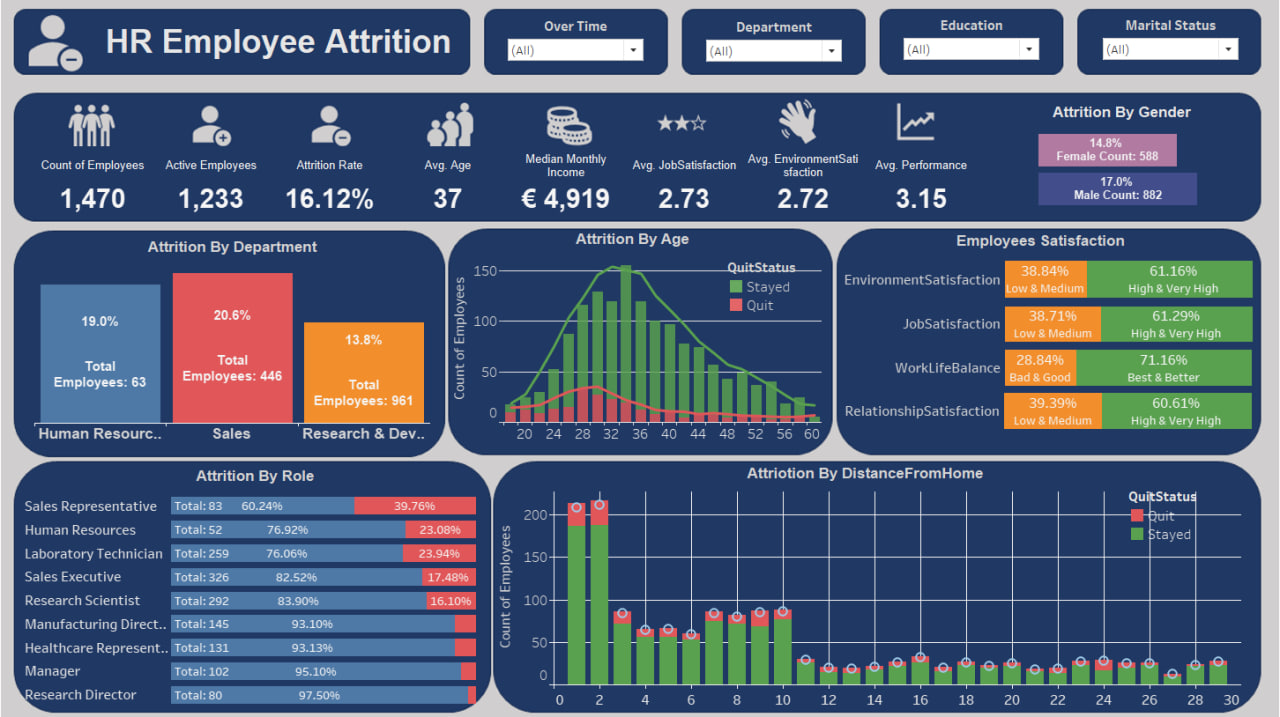

This screenshot's page, from the dashboard's own definition file:
{"tool":"tableau","page":{"name":"Dashboard","canvas":[1480,840],"ordinal":0},"visuals":[{"type":"image","param":"Image/dashboard-template.png","box":[8,8,1464,824]},{"type":"text","box":[130,24,400,71]},{"type":"filter","title":"Attrition By Role","param":"[federated.1coa1540oe1iew1gv6g4o164qylf].[none:Education:nk]","box":[1036,30,160,56]},{"type":"filter","title":"Attrition By Role","param":"[federated.1coa1540oe1iew1gv6g4o164qylf].[none:MaritalStatus:nk]","box":[1262,30,160,60]},{"type":"filter","title":"EmployeeSatisfaction","param":"[federated.1coa1540oe1iew1gv6g4o164qylf].[none:OverTime:nk]","box":[587,31,160,61]},{"type":"filter","title":"Attrition By Role","param":"[federated.1coa1540oe1iew1gv6g4o164qylf].[none:Department:nk]","box":[812,32,160,59]},{"type":"worksheet","title":"Attrition By Gender","mark":"Bar","rows":["Gender"],"cols":["Calculation_617837628887875588"],"box":[1192,126,189,123]},{"type":"worksheet","title":"KPIs","mark":"Automatic","box":[52,178,1074,81]},{"type":"worksheet","title":"Attrition By Age","mark":"Bar","rows":["cleaned.csv_70E9D969B87B495BA4FE548359104DE9"],"cols":["Age (bin)"],"box":[517,270,429,246]},{"type":"text","box":[1095,270,199,30]},{"type":"worksheet","title":"Attrition By Department","mark":"Bar","rows":["Calculation_617837628887875588"],"cols":["Department"],"box":[53,279,449,243]},{"type":"worksheet","title":"EmployeeSatisfaction","mark":"Automatic","cols":["Calculation_816558967056523266"],"box":[942,301,493,56]},{"type":"legend","title":"Attrition By Age","param":"[federated.1coa1540oe1iew1gv6g4o164qylf].[none:Calculation_264305060524859392:nk","box":[839,305,100,67]},{"type":"worksheet","title":"JobSatisfaction","mark":"Automatic","cols":["Calculation_816558967056883715"],"box":[978,353,471,53]},{"type":"worksheet","title":"WorkLifeBalance","mark":"Automatic","cols":["Calculation_816558967057481732"],"box":[982,402,466,54]},{"type":"worksheet","title":"RelationshipSatisfaction","mark":"Automatic","cols":["Calculation_816558967059492869"],"box":[949,451,499,54]},{"type":"worksheet","title":"Attriotion By DistanceFromHome","mark":"Bar","rows":["cleaned.csv_70E9D969B87B495BA4FE548359104DE9","cleaned.csv_70E9D969B87B495BA4FE548359104DE9"],"cols":["DistanceFromHome"],"box":[569,536,853,283]},{"type":"worksheet","title":"Attrition By Role","mark":"Bar","rows":["JobRole"],"cols":["cleaned.csv_70E9D969B87B495BA4FE548359104DE9"],"box":[36,539,535,275]},{"type":"legend","title":"Attriotion By DistanceFromHome","param":"[federated.1coa1540oe1iew1gv6g4o164qylf].[none:Calculation_264305060524859392:nk","box":[1294,565,104,64]}]}

Visuals, with their boxes in screenshot pixels (x1, y1, x2, y2), scaled from the page's 1480x840 canvas onto the 1280x717 screenshot:
image: box=[7, 7, 1273, 710]
text: box=[112, 20, 458, 81]
"Attrition By Role" filter: box=[896, 26, 1034, 73]
"Attrition By Role" filter: box=[1091, 26, 1230, 77]
"EmployeeSatisfaction" filter: box=[508, 26, 646, 79]
"Attrition By Role" filter: box=[702, 27, 841, 78]
"Attrition By Gender" worksheet (Bar marks): box=[1031, 108, 1194, 213]
"KPIs" worksheet: box=[45, 152, 974, 221]
"Attrition By Age" worksheet (Bar marks): box=[447, 230, 818, 440]
text: box=[947, 230, 1119, 256]
"Attrition By Department" worksheet (Bar marks): box=[46, 238, 434, 446]
"EmployeeSatisfaction" worksheet: box=[815, 257, 1241, 305]
"Attrition By Age" legend: box=[726, 260, 812, 318]
"JobSatisfaction" worksheet: box=[846, 301, 1253, 347]
"WorkLifeBalance" worksheet: box=[849, 343, 1252, 389]
"RelationshipSatisfaction" worksheet: box=[821, 385, 1252, 431]
"Attriotion By DistanceFromHome" worksheet (Bar marks): box=[492, 458, 1230, 699]
"Attrition By Role" worksheet (Bar marks): box=[31, 460, 494, 695]
"Attriotion By DistanceFromHome" legend: box=[1119, 482, 1209, 537]
